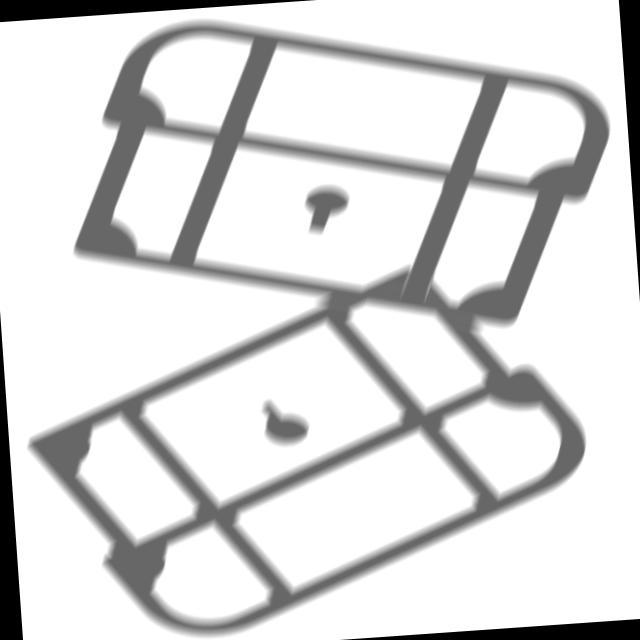treasure_box: (4, 246, 604, 640), (50, 1, 628, 364)
